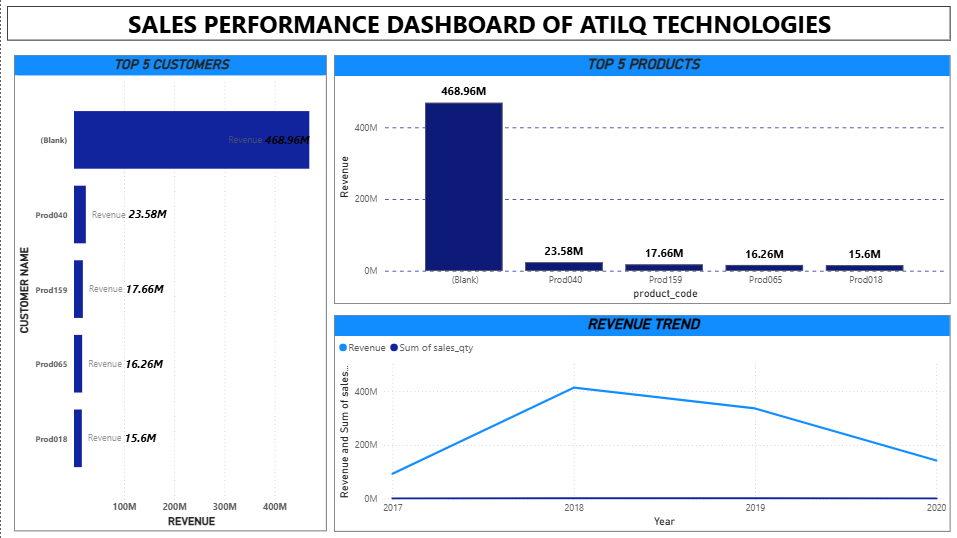

The page's visual inventory and layout, read from the dashboard file:
{"tool":"powerbi","page":{"name":"Insights 2","canvas":[1280,720],"ordinal":1},"visuals":[{"type":"clusteredBarChart","title":"TOP 5 CUSTOMERS","fields":{"Category":["sales products.product_code"],"Y":["BaseMeasures.Revenue"]},"box":[17,75.1,416.7,635],"z":0},{"type":"columnChart","title":"TOP 5 PRODUCTS","fields":{"Category":["sales products.product_code"],"Y":["BaseMeasures.Revenue","select"]},"box":[443.7,75.1,822.1,331.7],"z":1000},{"type":"lineChart","title":"REVENUE TREND","fields":{"Category":["sales date.cy_date.Variation.Date Hierarchy.Year","sales date.cy_date.Variation.Date Hierarchy.Quarter","sales date.cy_date.Variation.Date Hierarchy.Month"],"Y":["BaseMeasures.Revenue","Sum(sales transactions.sales_qty)"]},"box":[443.7,421,822.1,289.2],"z":2000},{"type":"shape","box":[7.4,8.9,1258.3,45.8],"z":3000}]}

Visuals, with their boxes in screenshot pixels (x1, y1, x2, y2), scaled from the page's 1280x720 canvas onto the 957x538 screenshot:
"TOP 5 CUSTOMERS" clusteredBarChart: locate(13, 56, 324, 531)
"TOP 5 PRODUCTS" columnChart: locate(332, 56, 946, 304)
"REVENUE TREND" lineChart: locate(332, 315, 946, 531)
shape: locate(6, 7, 946, 41)
